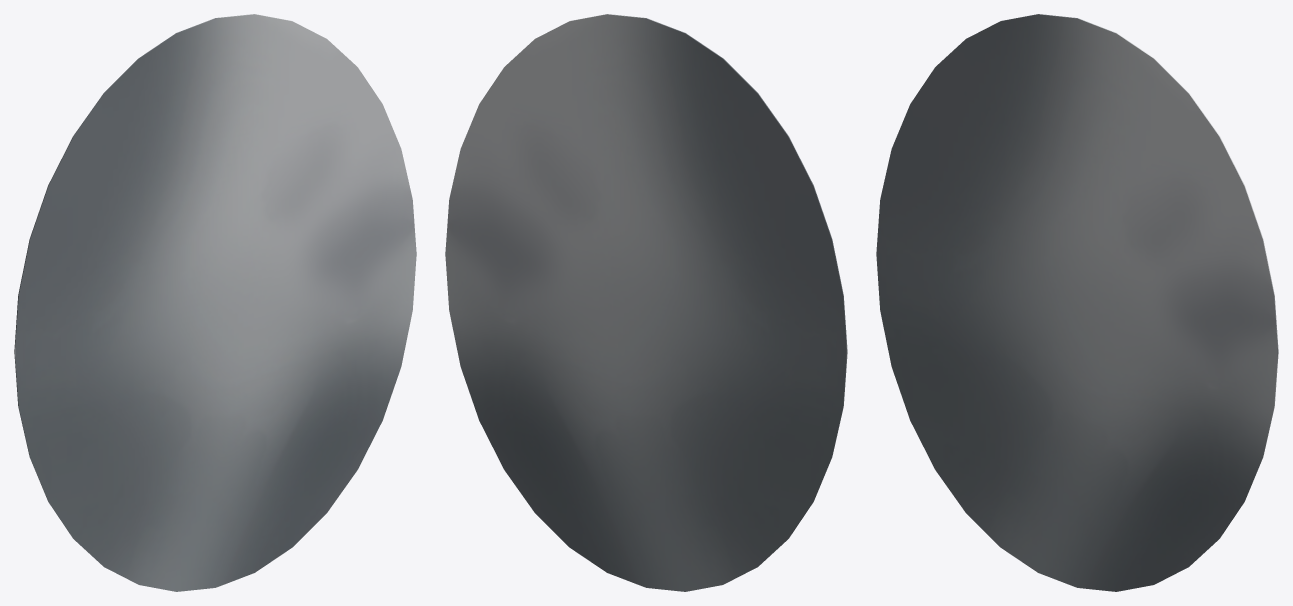
The model's file is Stealth.glb.
3 renders of one model, left to right at view 1: azimuth 30°, elevation 25°; view 2: azimuth 150°, elevation 25°; view 3: azimuth 330°, elevation 25°, orthographic.
Visible parts, largest first — view 1: Circle.011; view 2: Circle.011; view 3: Circle.011.
Boxes of the visible parts, x1,y1,x2,y2 form: Circle.011: (14,14,416,591); Circle.011: (445,14,847,591); Circle.011: (876,14,1278,591).
Bounding box in the file's own units: 4.47 × 6.05 × 0.01.
Materials: 1 (1 with a texture image).
